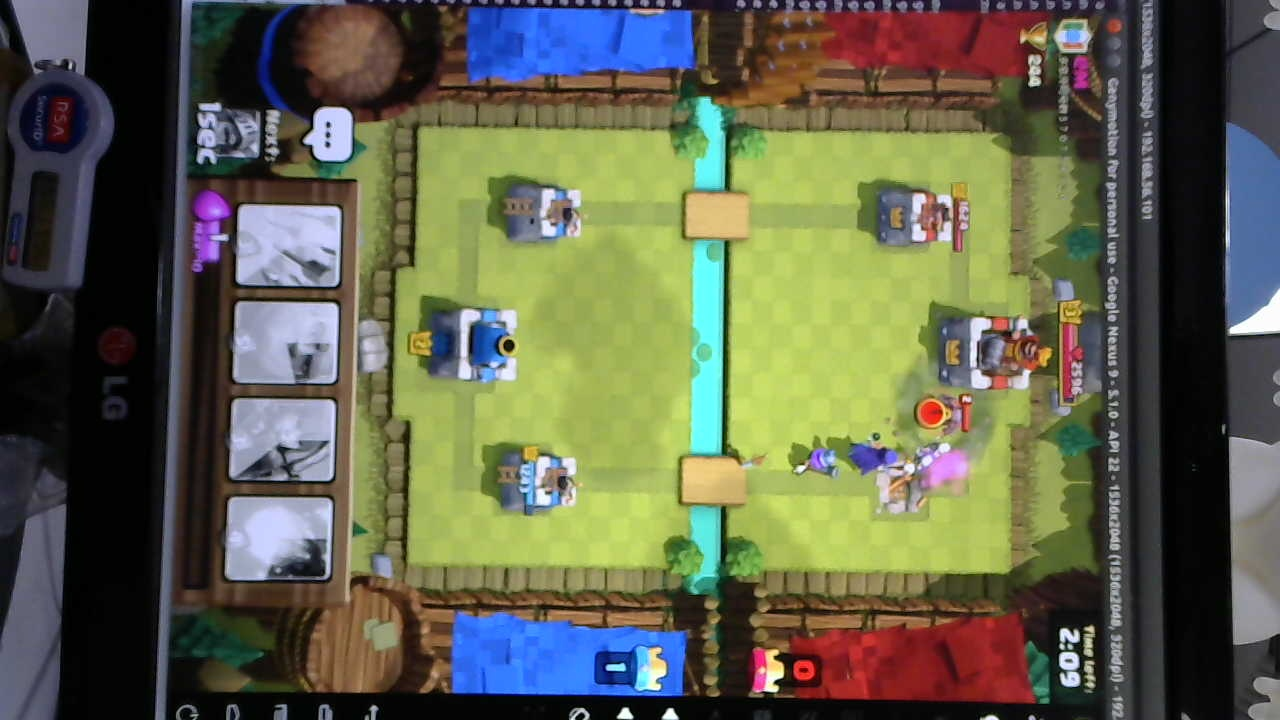arena: (501, 448, 582, 513), (512, 184, 584, 243)
darena: (868, 461, 931, 517)
earena: (874, 185, 953, 246)
eking: (934, 312, 1043, 397)
king: (426, 302, 521, 388)
minipekka: (930, 395, 967, 438)
musketeer: (799, 443, 842, 477)
witch: (852, 438, 900, 477)
